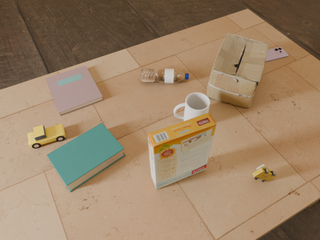book: (47, 123, 125, 192), (46, 66, 103, 115)
bottle: (140, 68, 189, 83)
box: (148, 113, 216, 189), (206, 33, 269, 108)
cup: (174, 93, 210, 121)
phone: (265, 47, 288, 62)
toy_car: (28, 124, 66, 148), (253, 164, 276, 182)
